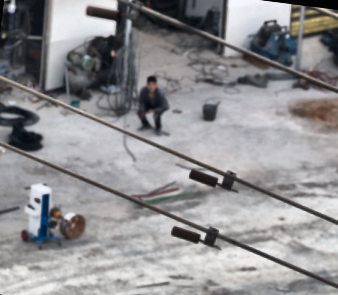damper_defect: (84, 1, 151, 29), (168, 222, 225, 251), (186, 166, 242, 194)
